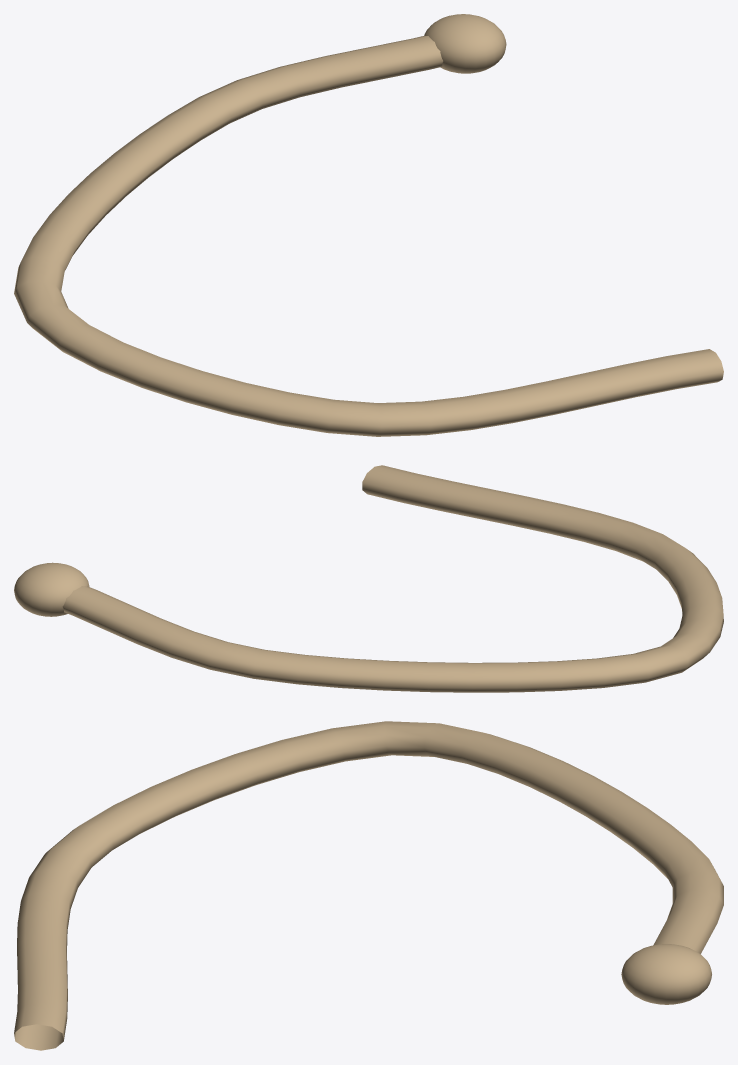
File: right_rib_10.glb
3 renders of one model, top to bottom at view 1: azimuth 30°, elevation 25°; view 2: azimuth 150°, elevation 25°; view 3: azimuth 270°, elevation 25°, orthographic. The views are drawn at different scales.
Visible parts, largest first — view 1: right_rib_10:costal-body, right_rib_10:head; view 2: right_rib_10:costal-body, right_rib_10:head; view 3: right_rib_10:costal-body, right_rib_10:head.
Part boxes in pixels (box(x1,y1,x2,y2)): right_rib_10:costal-body: box(14, 35, 723, 436); right_rib_10:head: box(424, 14, 506, 73); right_rib_10:costal-body: box(62, 465, 723, 692); right_rib_10:head: box(14, 562, 89, 616); right_rib_10:costal-body: box(14, 721, 723, 1050); right_rib_10:head: box(621, 944, 711, 1004).
Size of the model in its own units: 0.8826 by 0.1728 by 0.864.
